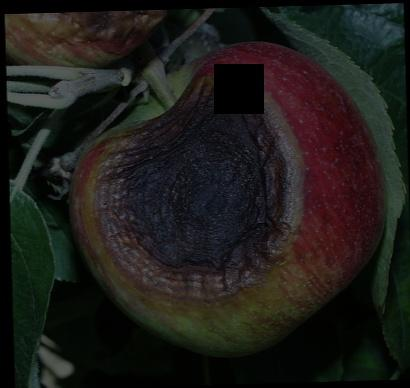rotten apple: (68, 42, 385, 356), (5, 11, 171, 68)
